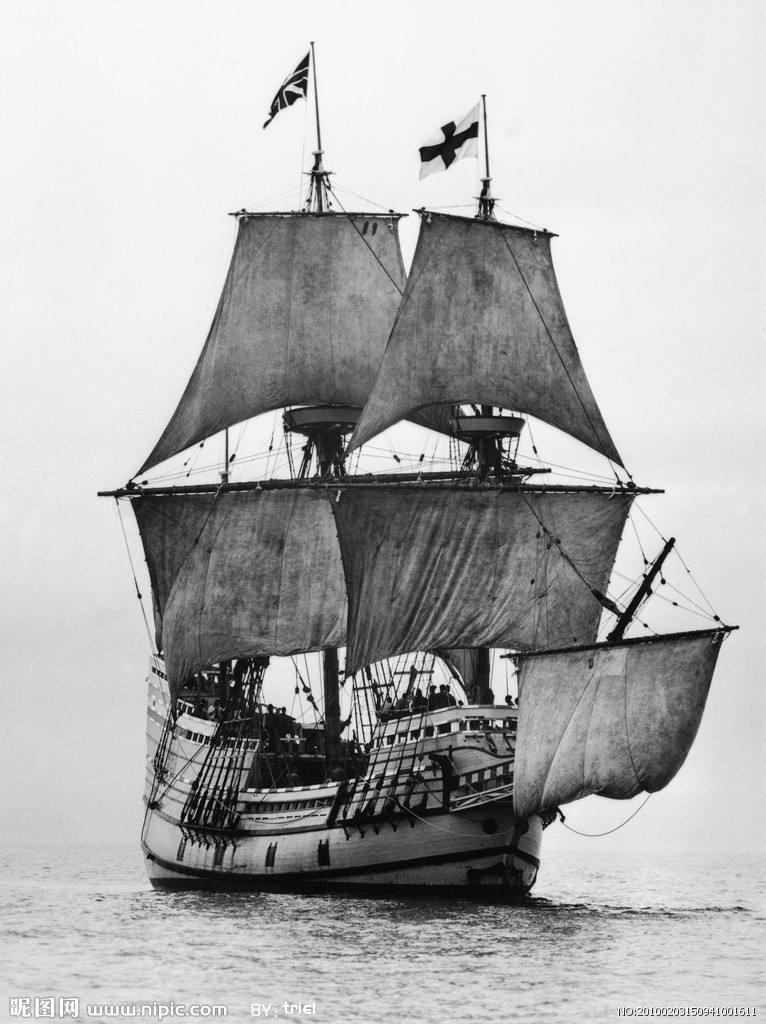fanchuan: (110, 34, 733, 903)
